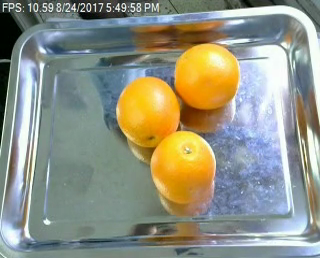Orange: (114, 76, 181, 148), (149, 131, 214, 204), (172, 42, 239, 109)
